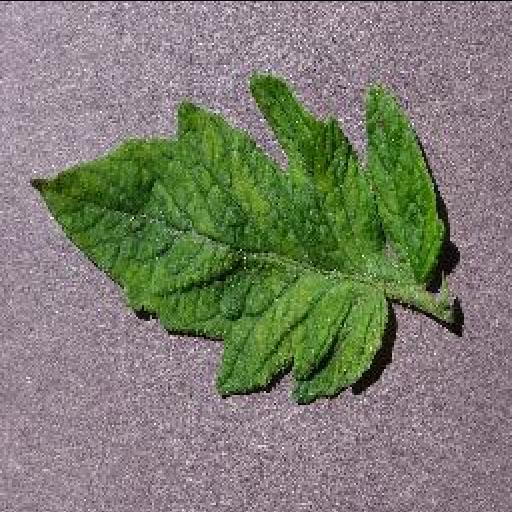disease_tomato: (26, 70, 446, 408)
